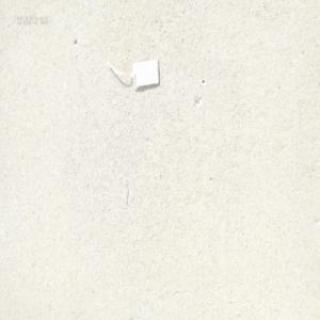LuggageTagtrack_idkeyframe: (106, 54, 162, 90)
